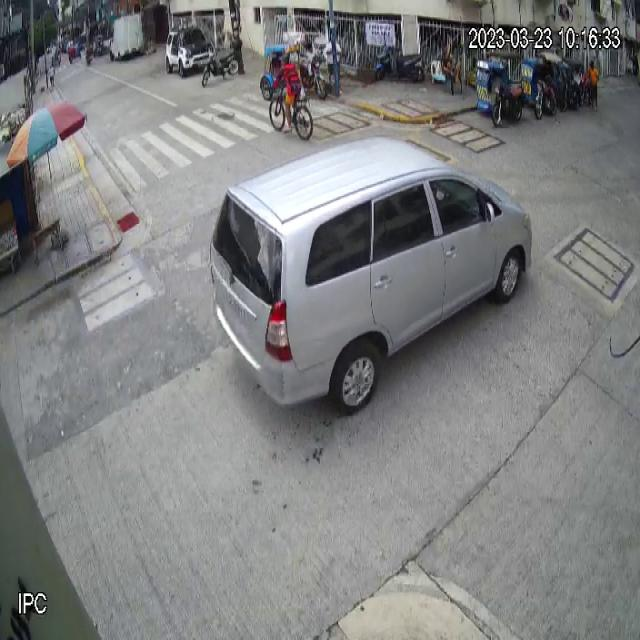Car: (208, 140, 532, 421)
Tricycle: (476, 50, 526, 126)
